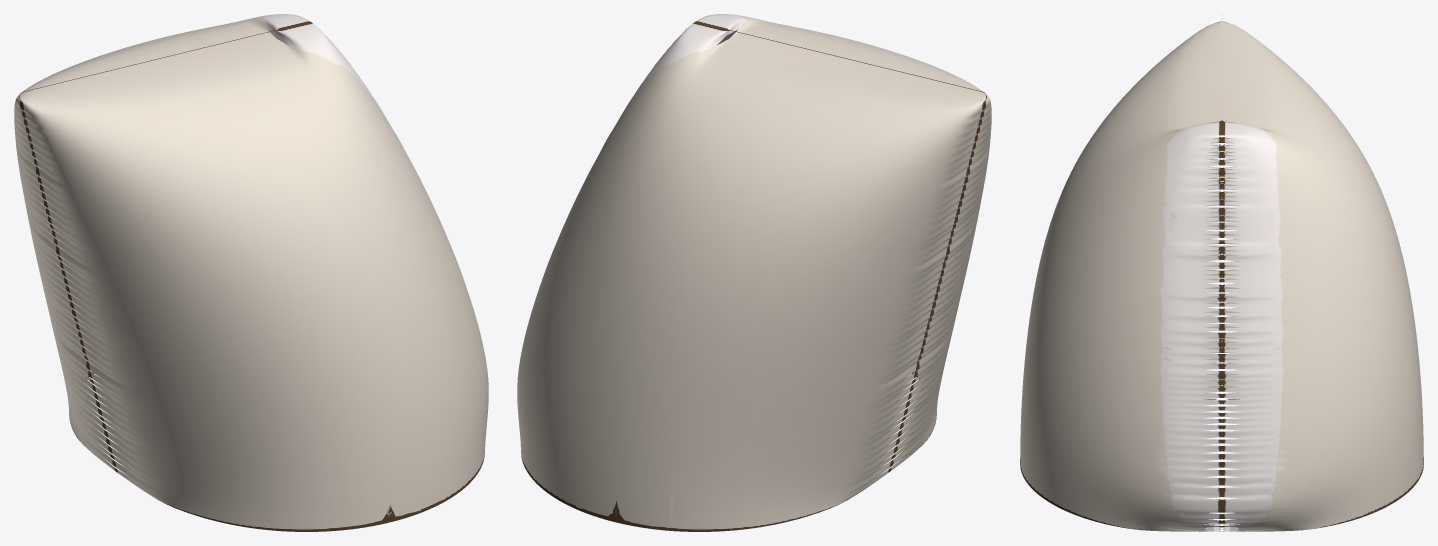
File: north_wall_end.glb
3 renders of one model, left to right at view 1: azimuth 30°, elevation 25°; view 2: azimuth 150°, elevation 25°; view 3: azimuth 270°, elevation 25°, orthographic. The views are drawn at different scales.
Visible parts, largest first — view 1: north_wall_end; view 2: north_wall_end; view 3: north_wall_end.
Part boxes in pixels (left/top/right/bottom): north_wall_end: left=14, top=14, right=488, bottom=531; north_wall_end: left=517, top=14, right=991, bottom=531; north_wall_end: left=1020, top=21, right=1423, bottom=531.
Size of the model in its own units: 0.9898 by 0.8731 by 0.9238.
Materials: 1 (1 with a texture image).
